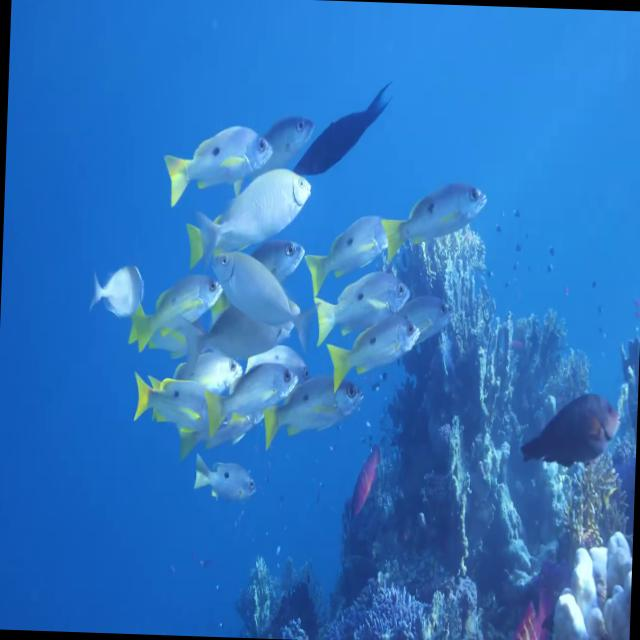fish: (206, 233, 328, 358), (196, 168, 314, 264), (293, 78, 389, 192), (162, 120, 274, 202), (205, 358, 302, 444), (520, 391, 624, 467), (377, 182, 486, 252), (312, 268, 416, 340), (308, 214, 401, 290), (332, 316, 420, 392), (130, 368, 227, 435), (89, 258, 144, 328), (192, 453, 255, 508), (266, 111, 310, 170)
